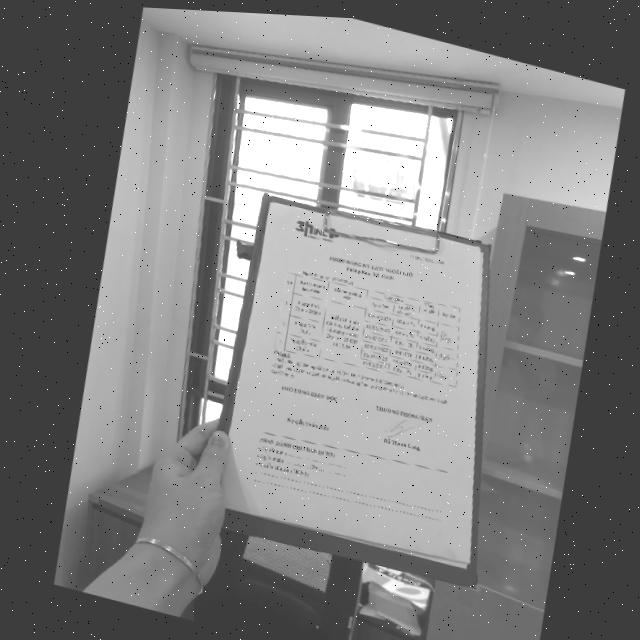document: (215, 202, 483, 569)
